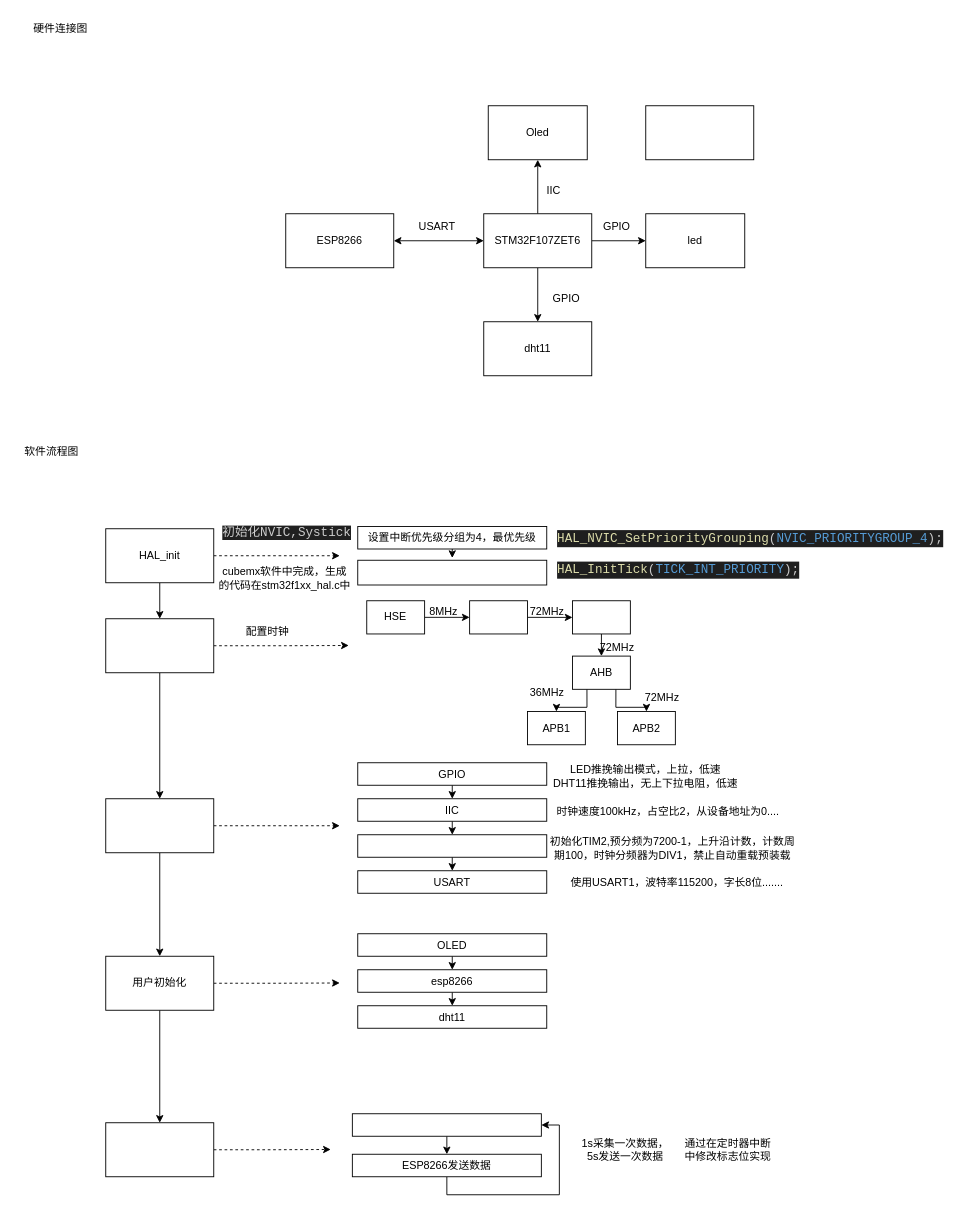
Image size: 959x1218. Some labels were removed from this diagram. Here are the shapes that lost their labels. From the top down, the box of each, then its label:
(645, 105, 754, 160): TIM2定时器 10ms
(357, 559, 547, 585): 使用systick作为时钟源，配置1ms刻度
(469, 600, 527, 634): PLL
(572, 600, 630, 634): SYSCLK
(105, 618, 214, 673): SystemClock_Config
(105, 798, 214, 853): 外设初始化
(357, 834, 547, 857): TIM
(351, 1113, 541, 1136): 读取DHT11温湿度传感器数据
(105, 1122, 214, 1177): 用户主程序
